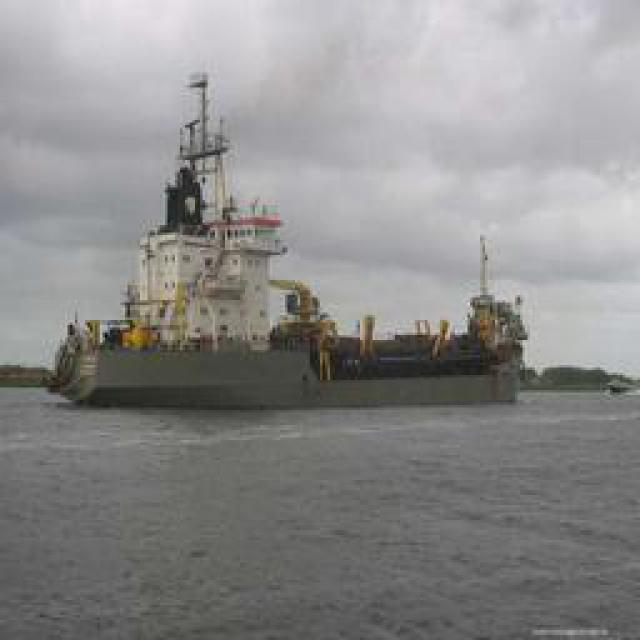Ship: (48, 62, 539, 415)
